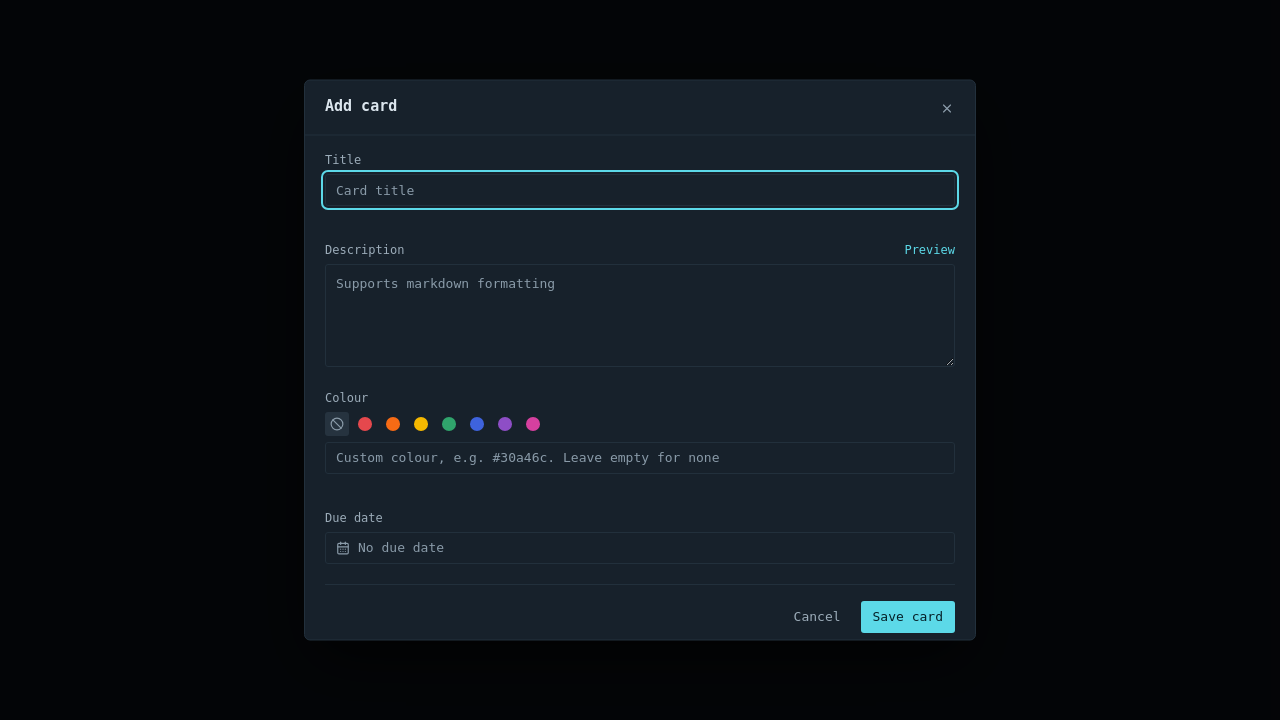
CardEditor › reports an empty title inline and focuses the title field
Step 1. Click the button "Save card" → (908, 616), box x1=860 y1=600 x2=955 y2=632
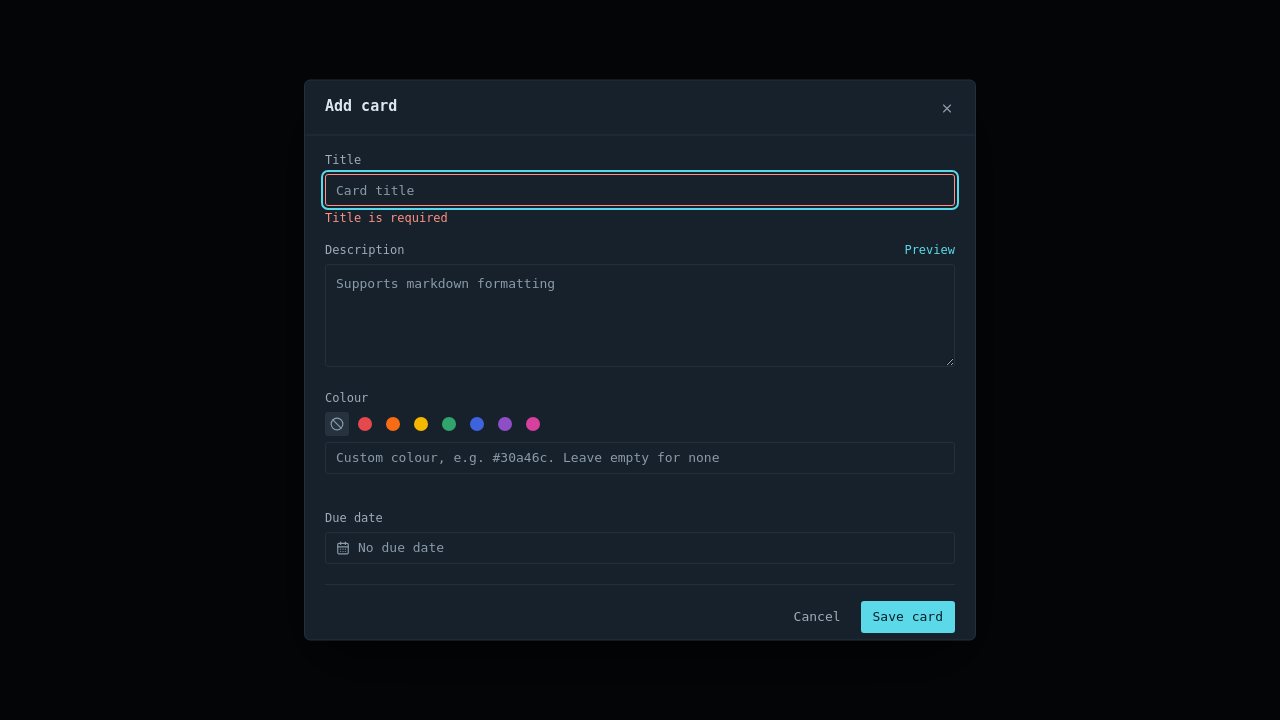
Expected: the text "Title is required" is shown, x1=325 y1=210 x2=448 y2=224
